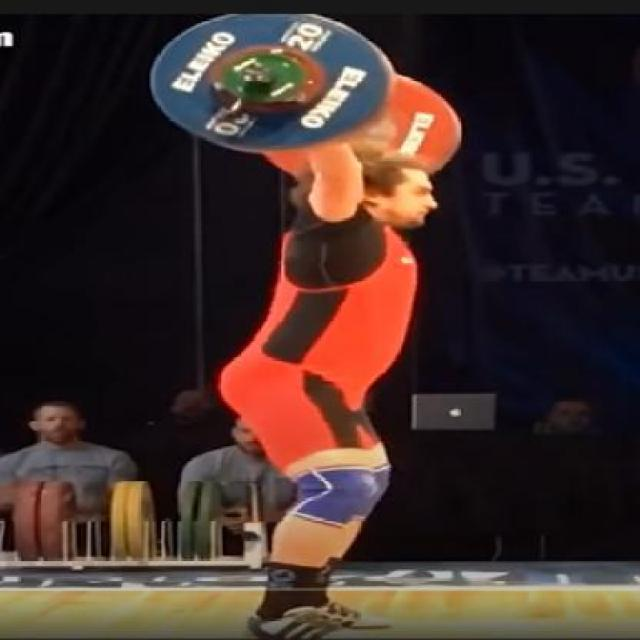barbell: (146, 24, 397, 156)
